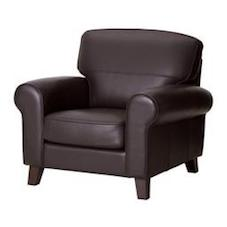chair: (6, 15, 219, 212), (7, 14, 185, 190)
